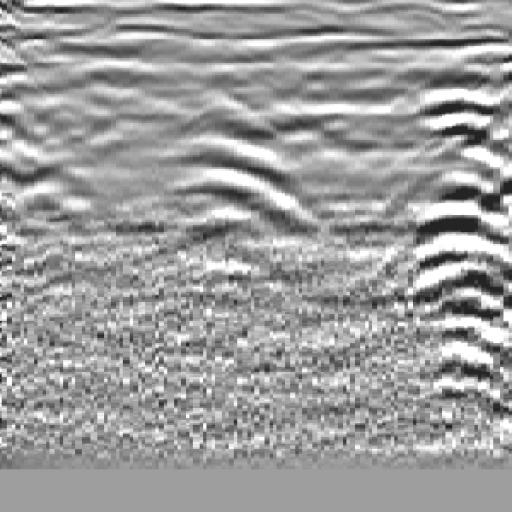metalic: (136, 107, 333, 266)
nonmetalic: (391, 43, 512, 277)
